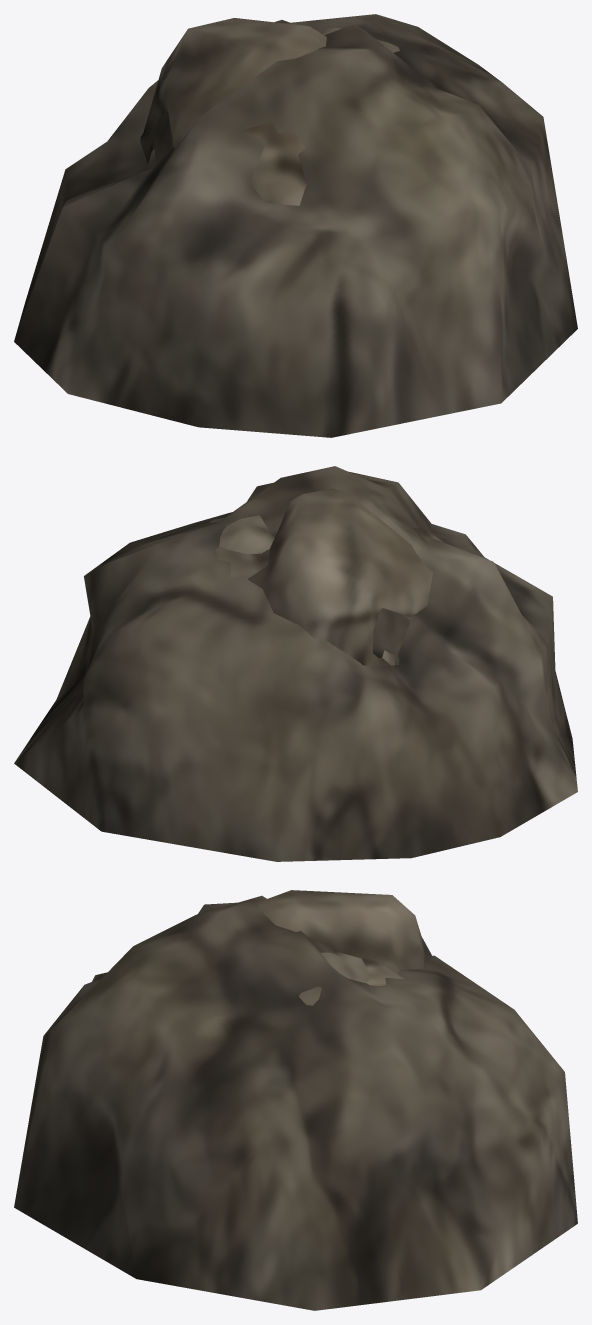
The model's file is MEP_C_Boulder_N.fbx.
3 views of the same model, one above another, from view 1: azimuth 30°, elevation 25°; view 2: azimuth 150°, elevation 25°; view 3: azimuth 270°, elevation 25° (orthographic). The views are drawn at different scales.
Visible parts, largest first — view 1: MEP_C_Boulder_01, MEP_C_Boulder_03, MEP_C_Boulder_02; view 2: MEP_C_Boulder_01, MEP_C_Boulder_03, MEP_C_Boulder_02, MEP_C_Boulder_04; view 3: MEP_C_Boulder_01, MEP_C_Boulder_03, MEP_C_Boulder_04, MEP_C_Boulder_02.
Boxes of the visible parts, box(x1,y1,x2,y2) form: MEP_C_Boulder_01: box(14, 14, 577, 437); MEP_C_Boulder_03: box(140, 18, 326, 205); MEP_C_Boulder_02: box(150, 111, 173, 161); MEP_C_Boulder_01: box(14, 466, 577, 861); MEP_C_Boulder_03: box(248, 488, 444, 665); MEP_C_Boulder_02: box(213, 547, 410, 657); MEP_C_Boulder_04: box(209, 515, 394, 665); MEP_C_Boulder_01: box(14, 895, 577, 1310); MEP_C_Boulder_03: box(258, 890, 433, 973); MEP_C_Boulder_04: box(299, 952, 368, 1005); MEP_C_Boulder_02: box(362, 958, 404, 986).
Size of the model in its own units: 105 by 54.46 by 98.72.
1 material, 1 textured.
